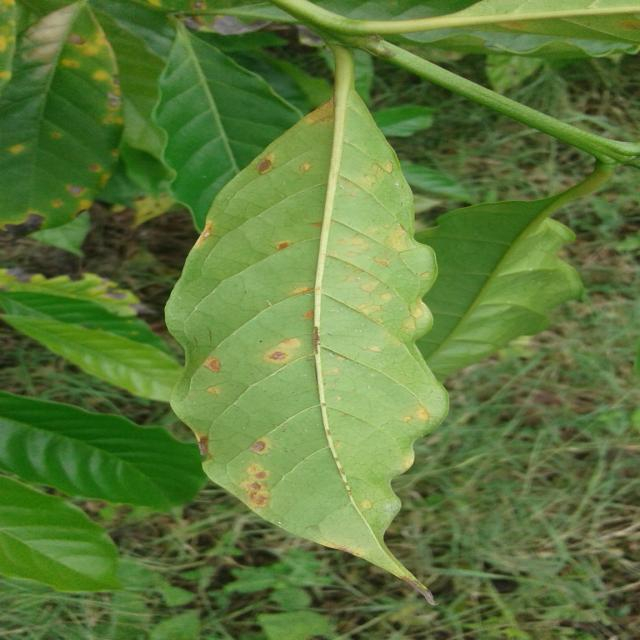Enfermedad-Roya: (162, 46, 454, 585)
